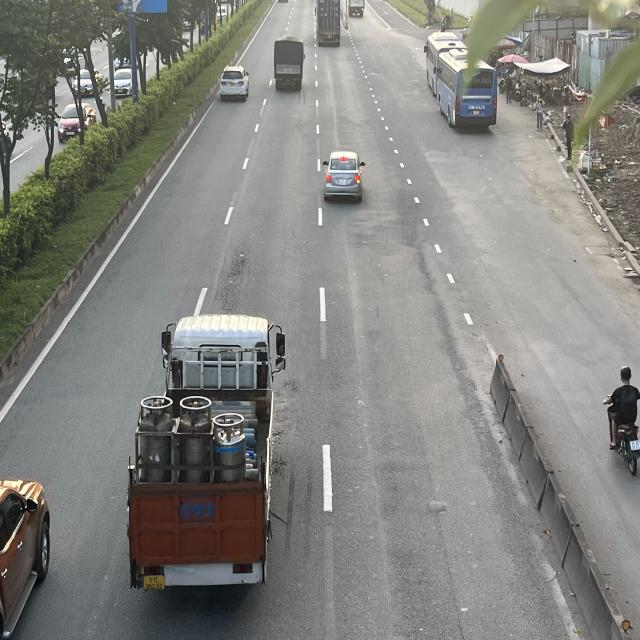car: (0, 478, 53, 640), (321, 149, 366, 200), (218, 66, 248, 102)
coach: (436, 49, 499, 127)
container: (314, 0, 342, 44)
truck: (130, 310, 290, 591), (274, 38, 306, 92)
